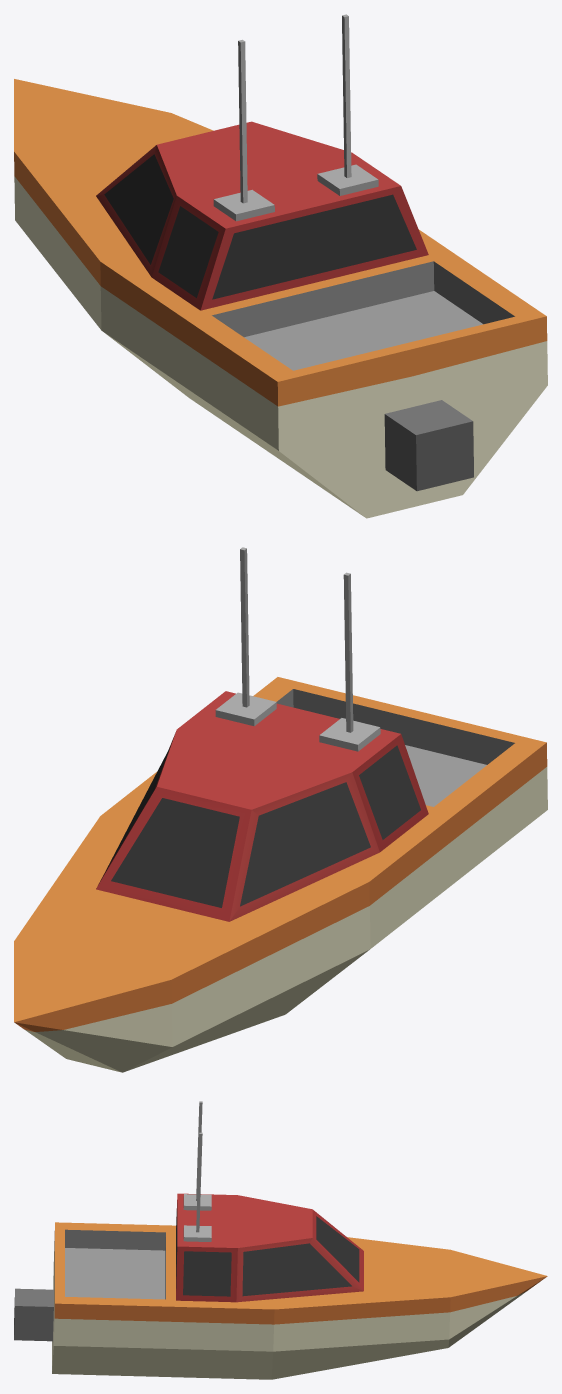
File: Animated_Boat_1.glb
3 renders of one model, top to bottom at view 1: azimuth 30°, elevation 25°; view 2: azimuth 150°, elevation 25°; view 3: azimuth 270°, elevation 25°, orthographic. The views are drawn at different scales.
Visible parts, largest first — view 1: Vehicle_Boat_01; view 2: Vehicle_Boat_01; view 3: Vehicle_Boat_01.
Boxes of the visible parts, <box> form: Vehicle_Boat_01: <box>14,14,547,518</box>; Vehicle_Boat_01: <box>14,547,547,1072</box>; Vehicle_Boat_01: <box>14,1101,547,1379</box>.
Size of the model in its own units: 2.5 by 3.55 by 6.94.
1 material, 1 textured.
